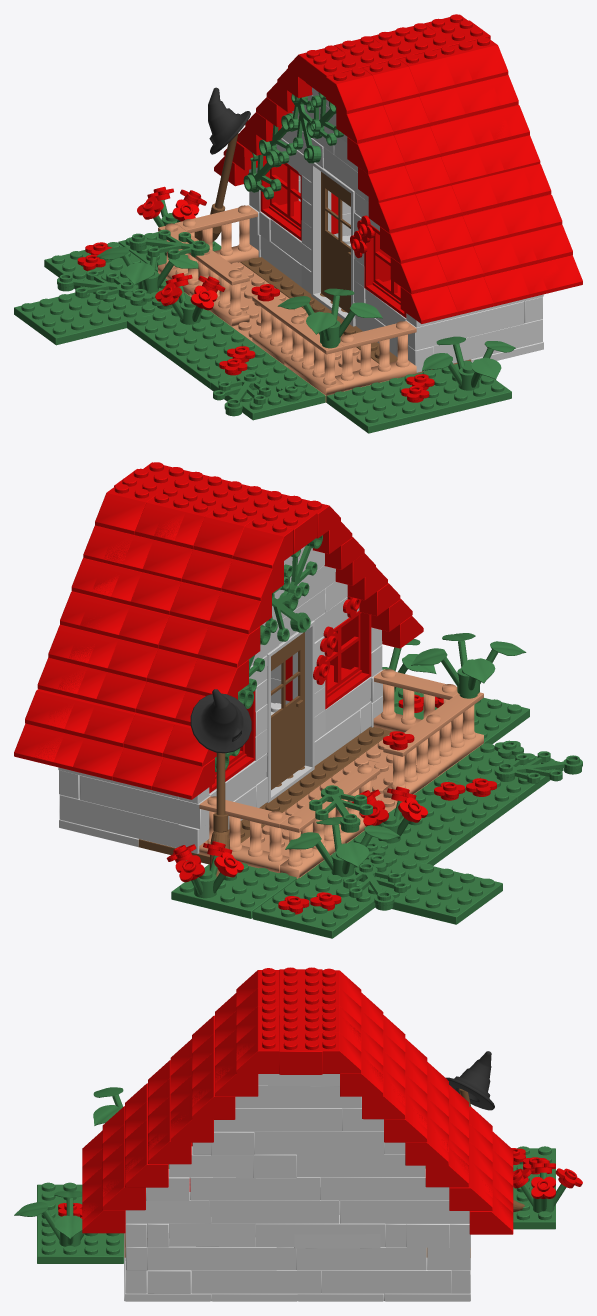
The model's file is Lego_House_Jayden_Hill.fbx.
3 renders of one model, top to bottom at view 1: azimuth 30°, elevation 25°; view 2: azimuth 150°, elevation 25°; view 3: azimuth 270°, elevation 25°, orthographic. The views are drawn at different scales.
Visible parts, largest first — view 1: group6_L2x2Slope68; view 2: group6_L2x2Slope68; view 3: group6_L2x2Slope68.
Part boxes in pixels (x1=…): group6_L2x2Slope68: x1=14, y1=14, x2=582, y2=433; group6_L2x2Slope68: x1=14, y1=462, x2=582, y2=938; group6_L2x2Slope68: x1=14, y1=967, x2=582, y2=1301.
Bounding box in the file's own units: 777 × 497 × 969.
